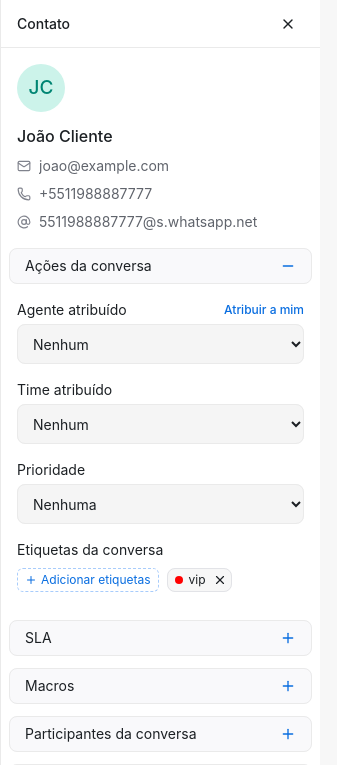
Test: running macros › explains when there are no macros
The width and height of the screenshot is (337, 765).
Click the button "Macros".
click(50, 686)  # box [9,668,312,704]
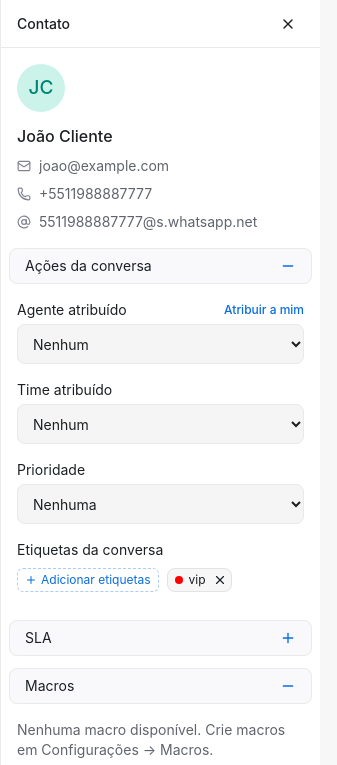
Expected: the text "Nenhuma macro disponível" is shown, [17,721,285,758]
